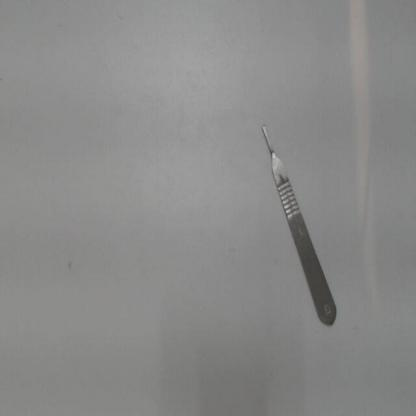No.3 BP Handle: (247, 108, 349, 343)
